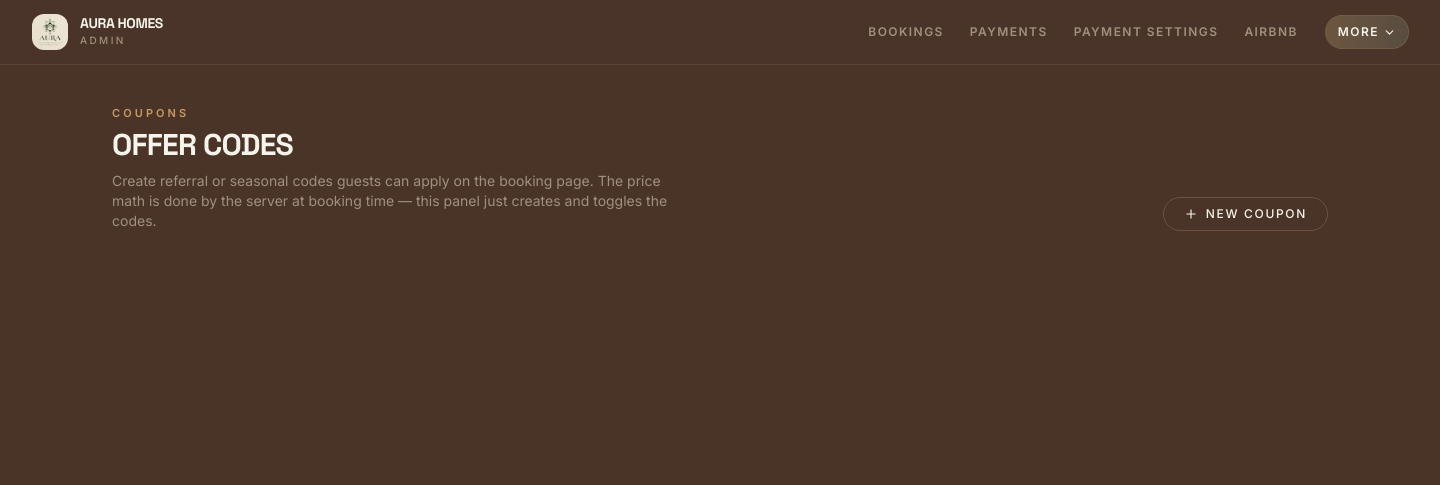
Scenario: AdminShell desktop header › never removes a section: the header and More together cover every route
This screenshot has width=1440, height=485.
Click the button "More". click: (1367, 32)
box: [1326,16,1408,48]
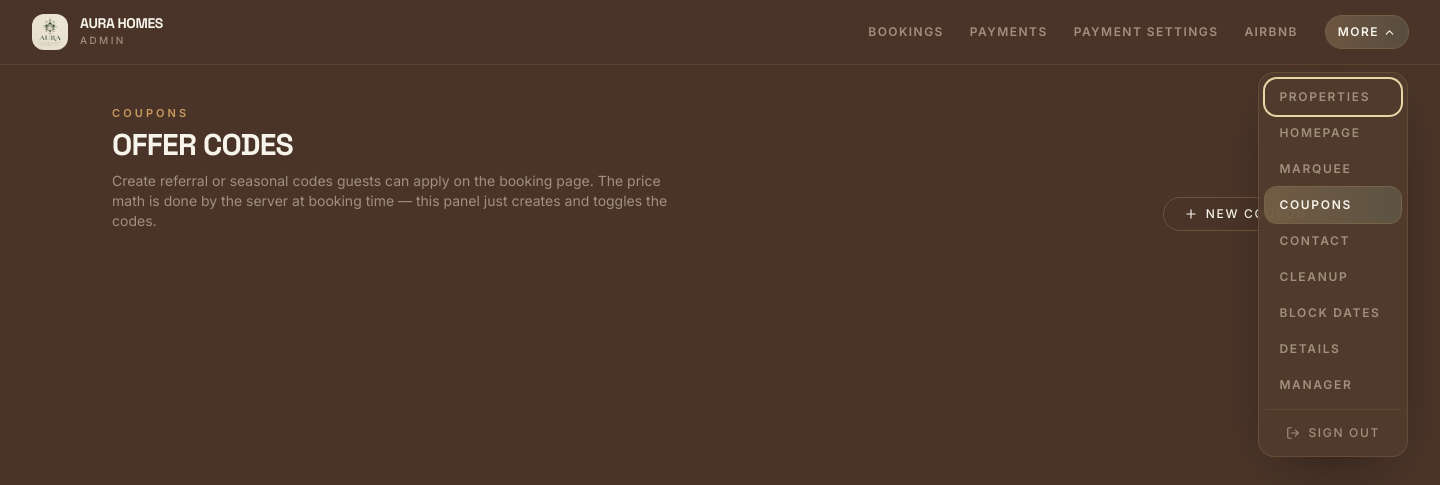
Now the link "Manager" is shown, box [1279,377,1352,392]
